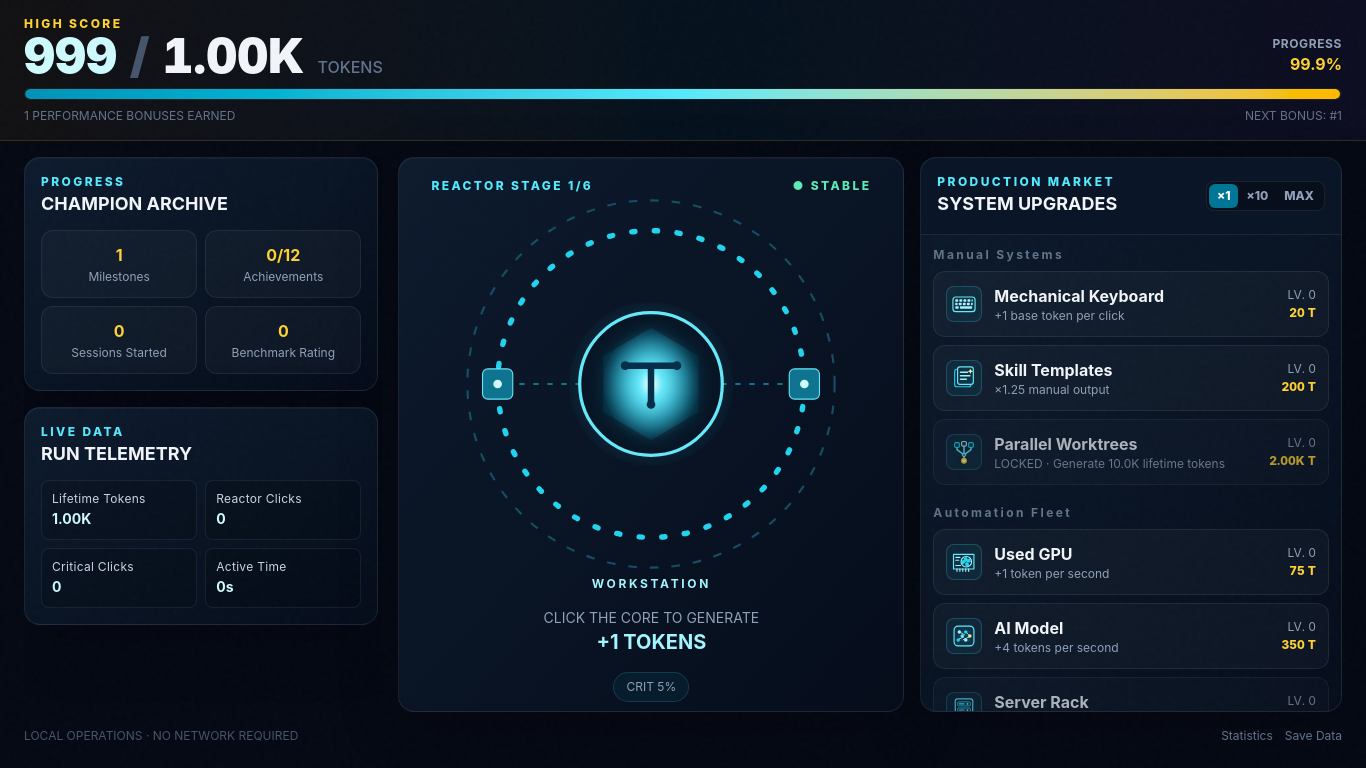
Scenario: Tokenmaxxer dashboard › labels a previously earned milestone as reclaimed after prestige
The image size is (1366, 768).
Click the button with aria-label "activate reactor for 1 token".
click(651, 384)  # box 435,168 -> 867,600
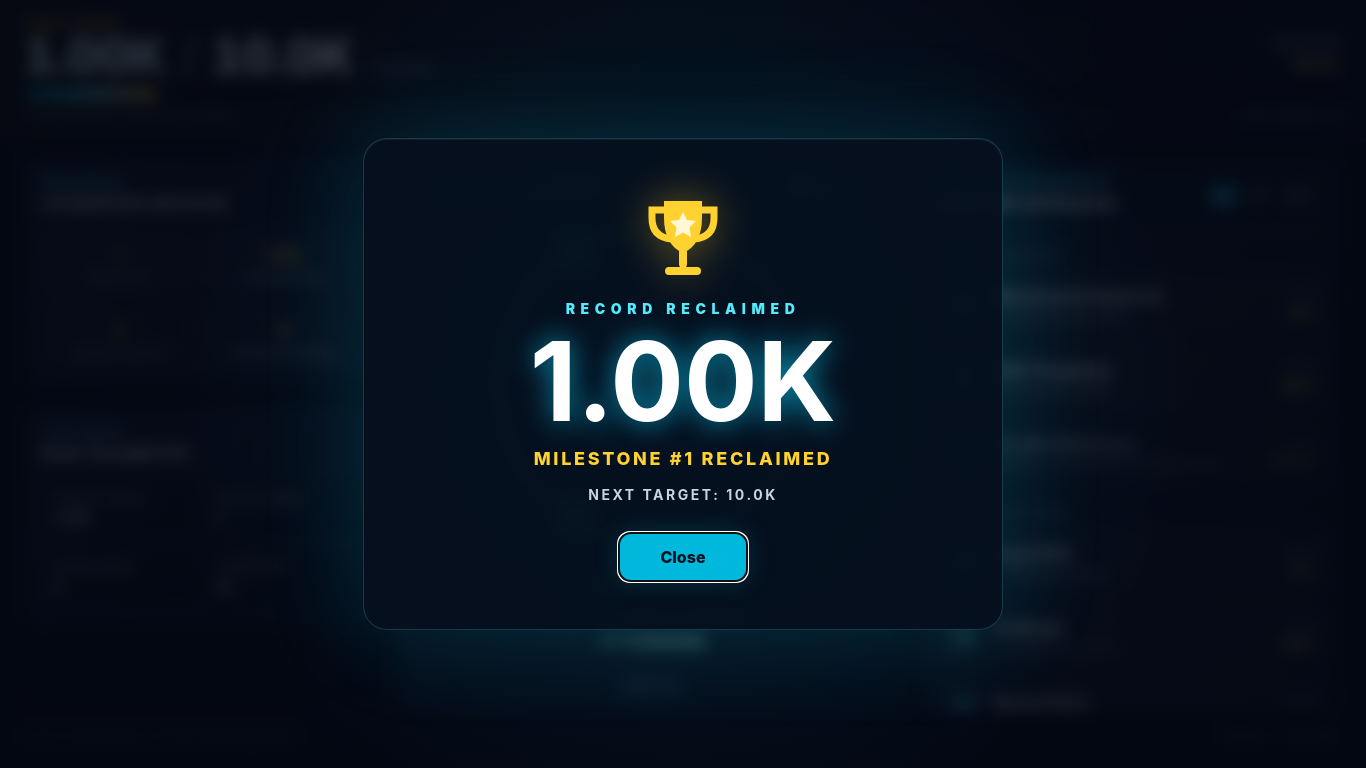
Expected: the dialog "RECORD RECLAIMED" does not show "PERFORMANCE BONUS #1 EARNED", 363,138 -> 1003,630
Expected: the dialog "RECORD RECLAIMED" shows "MILESTONE #1 RECLAIMED", 534,448 -> 832,469
